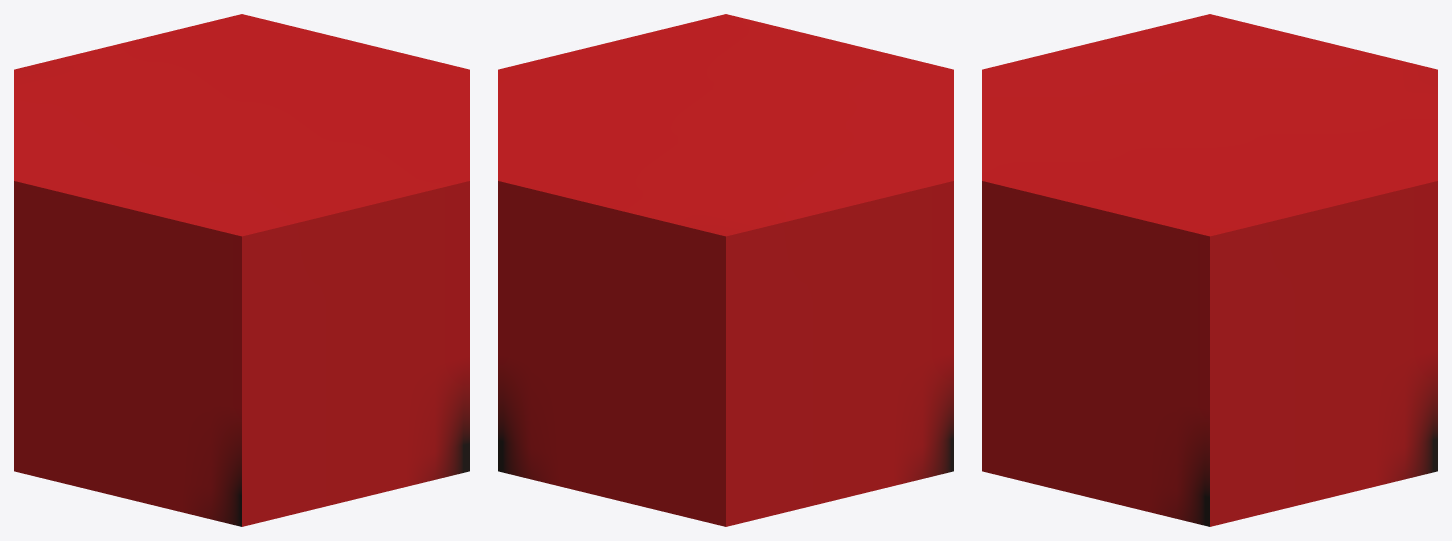
File: tile_select_no.FBX
3 views of the same model, side by side, from view 1: azimuth 30°, elevation 25°; view 2: azimuth 150°, elevation 25°; view 3: azimuth 270°, elevation 25° (orthographic).
Visible parts, largest first — view 1: Cylinder001; view 2: Cylinder001; view 3: Cylinder001.
Part boxes in pixels (<box>): Cylinder001: <box>14,14,469,526</box>; Cylinder001: <box>498,14,953,526</box>; Cylinder001: <box>982,14,1437,526</box>.
Size of the model in its own units: 25.3 by 21.91 by 15.4.
1 material, 1 textured.
